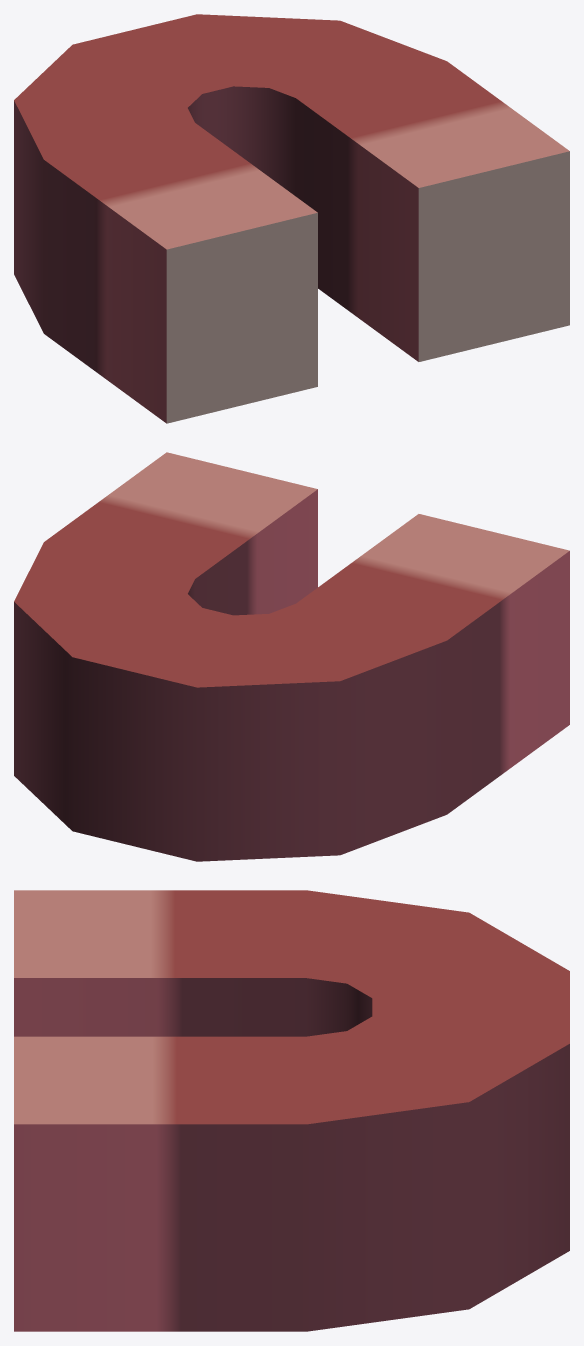
File: magnet.fbx
3 views of the same model, one above another, from view 1: azimuth 30°, elevation 25°; view 2: azimuth 150°, elevation 25°; view 3: azimuth 270°, elevation 25° (orthographic). The views are drawn at different scales.
Visible parts, largest first — view 1: magnet; view 2: magnet; view 3: magnet.
Boxes of the visible parts, x1,y1,x2,y2 form: magnet: [14, 14, 569, 423]; magnet: [14, 452, 569, 861]; magnet: [14, 890, 569, 1331].
Size of the model in its own units: 99.64 by 41.12 by 99.96.
Materials: 1 (1 with a texture image).
